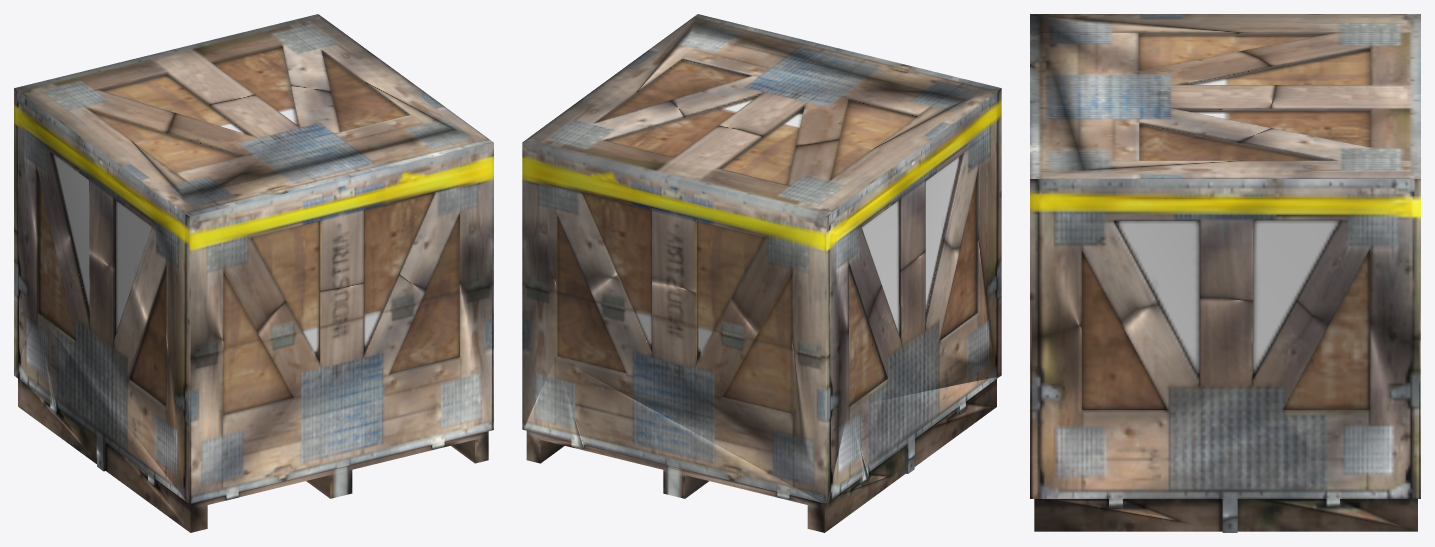
3 renders of one model, left to right at view 1: azimuth 30°, elevation 25°; view 2: azimuth 150°, elevation 25°; view 3: azimuth 270°, elevation 25°, orthographic. The views are drawn at different scales.
Parts seen in each view (by area): view 1: Mesh; view 2: Mesh; view 3: Mesh.
Part boxes in pixels (x1=…): Mesh: x1=14, y1=14, x2=493, y2=532; Mesh: x1=522, y1=14, x2=1001, y2=532; Mesh: x1=1030, y1=14, x2=1420, y2=532.
Size of the model in its own units: 153 by 153 by 153.
